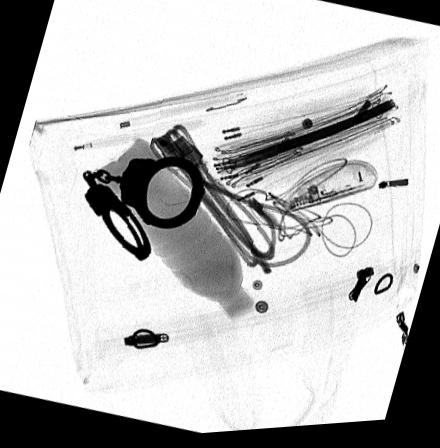HandCuffs: (82, 159, 205, 262)
